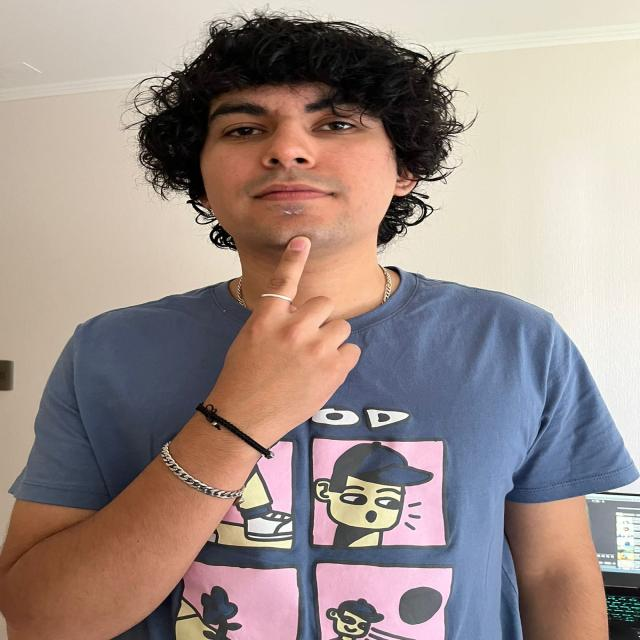T: (220, 230, 360, 434)
